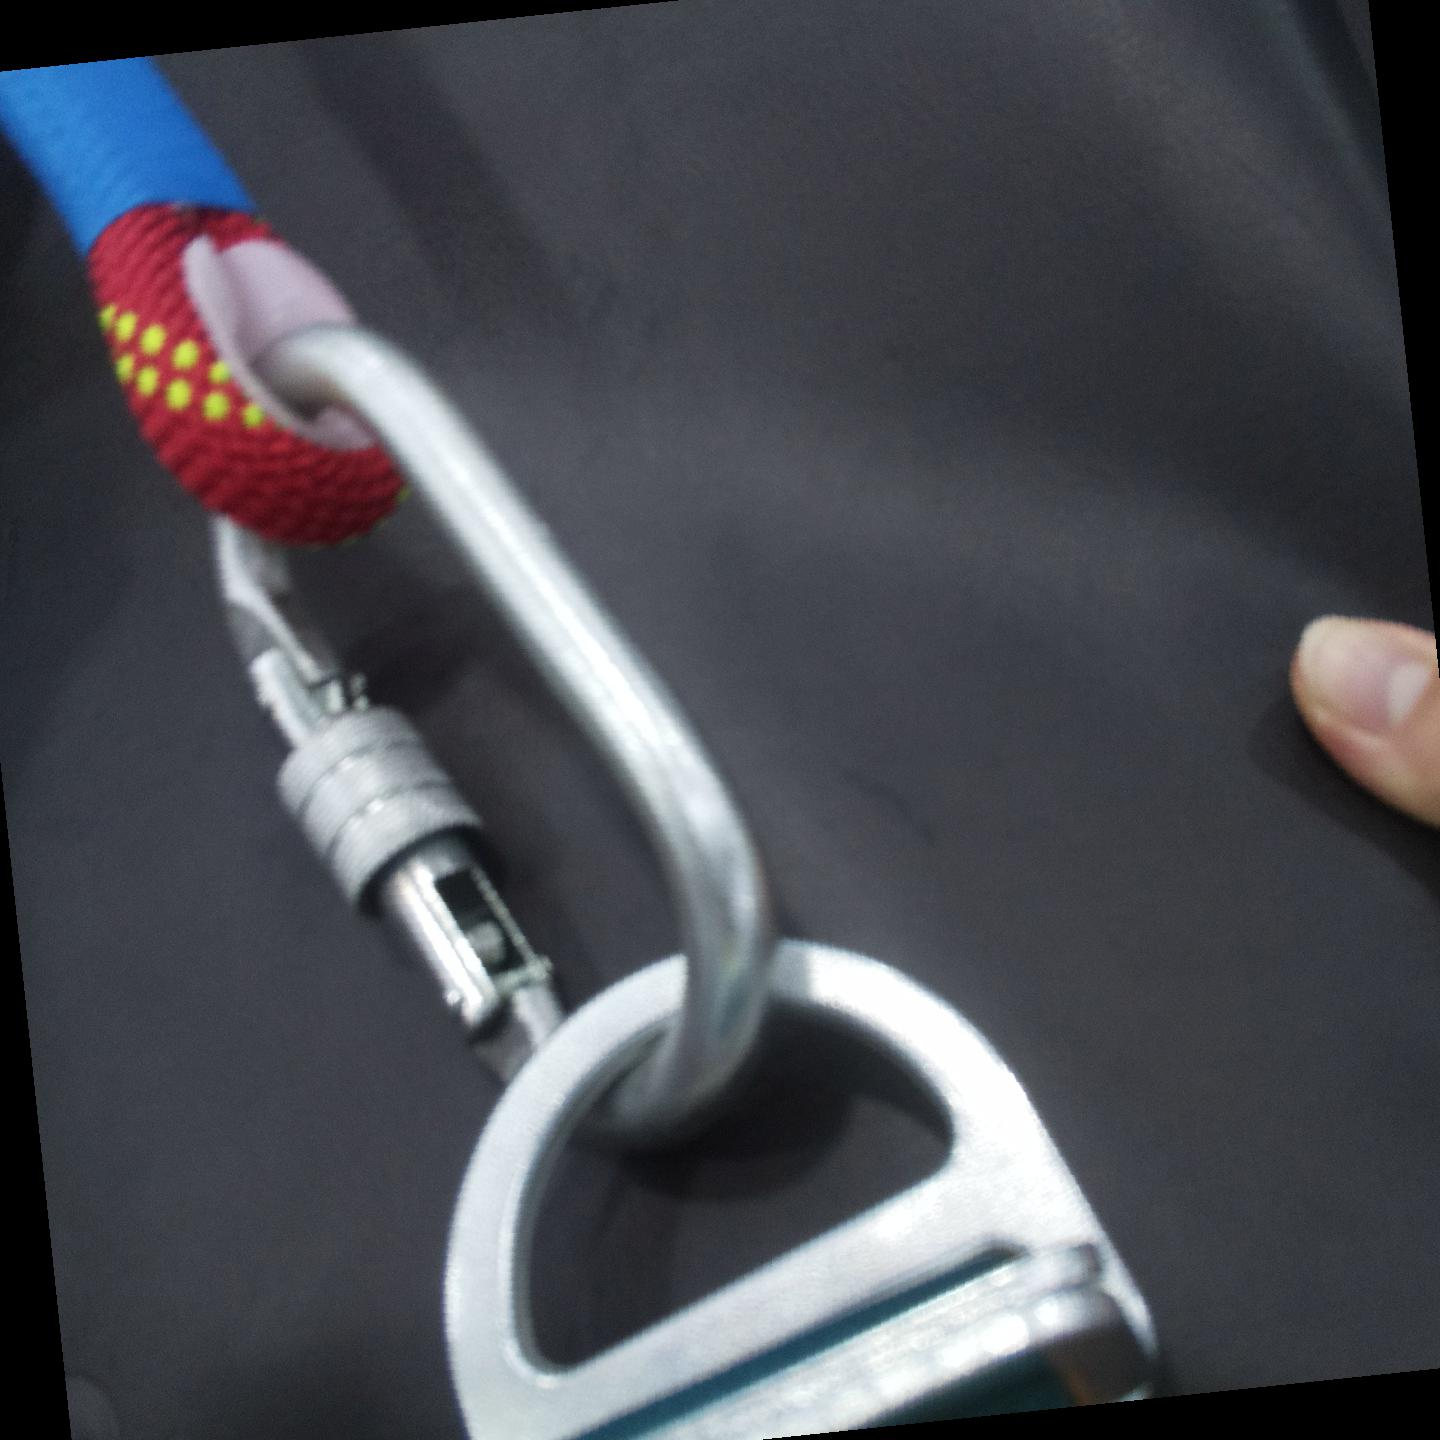SUCCESS: (368, 609, 1142, 1429)
